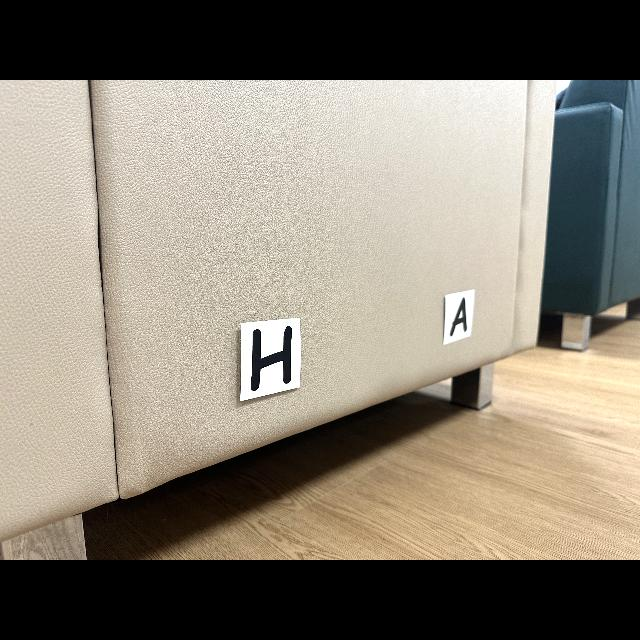A: (450, 298, 468, 336)
H: (251, 326, 292, 391)
